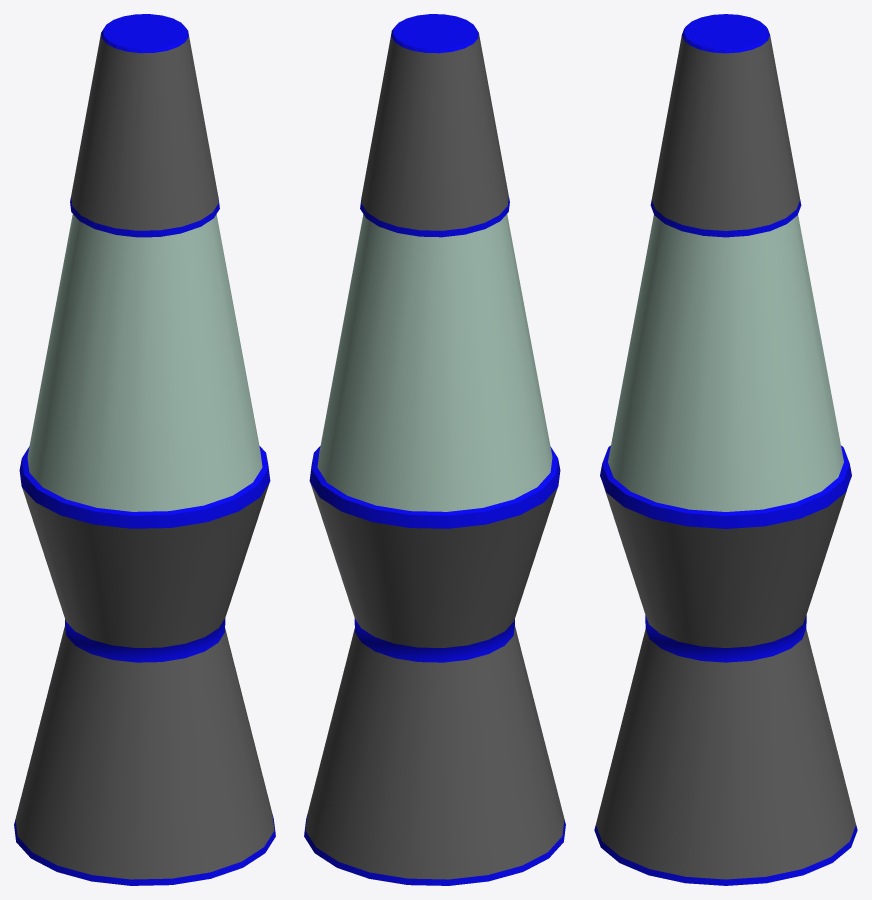
The model's file is plantSmall.glb.
3 views of the same model, side by side, from view 1: azimuth 30°, elevation 25°; view 2: azimuth 150°, elevation 25°; view 3: azimuth 270°, elevation 25° (orthographic).
Visible parts, largest first — view 1: plantSmall; view 2: plantSmall; view 3: plantSmall.
Part boxes in pixels (x1,y1,x2,y2): plantSmall: [14, 14, 275, 885]; plantSmall: [304, 14, 565, 885]; plantSmall: [594, 14, 857, 885].
Bounding box in the file's own units: 0.1113 × 0.3724 × 0.1113.
